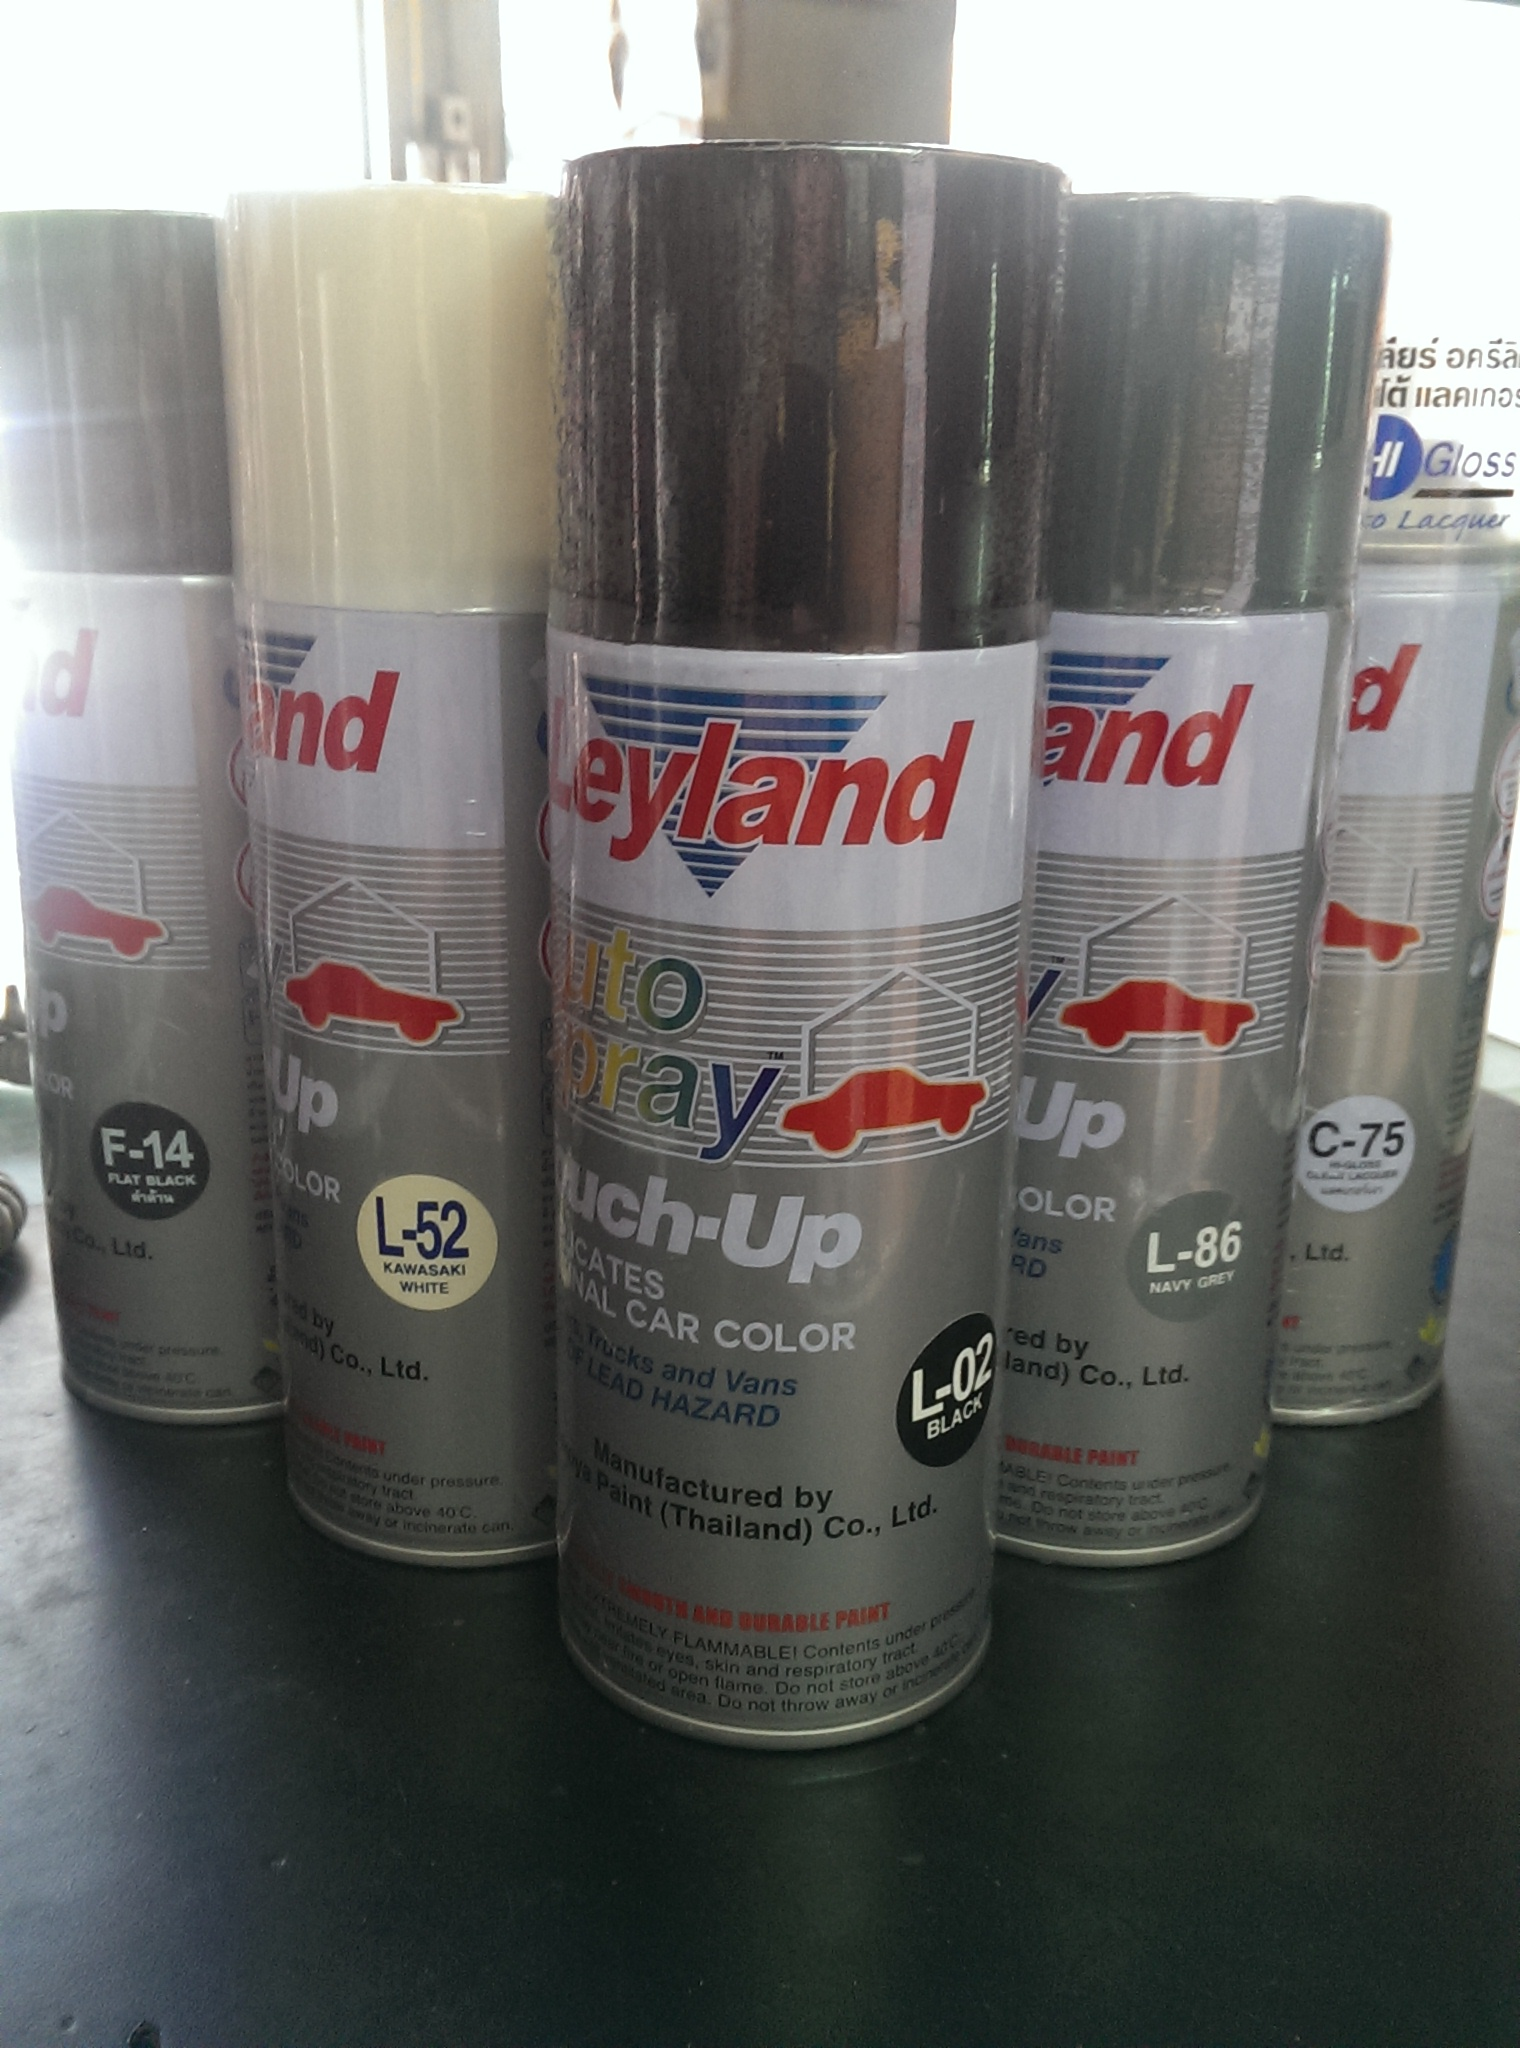Aerosol_cans: (549, 134, 1079, 1757), (988, 176, 1402, 1582), (208, 164, 592, 1583)
